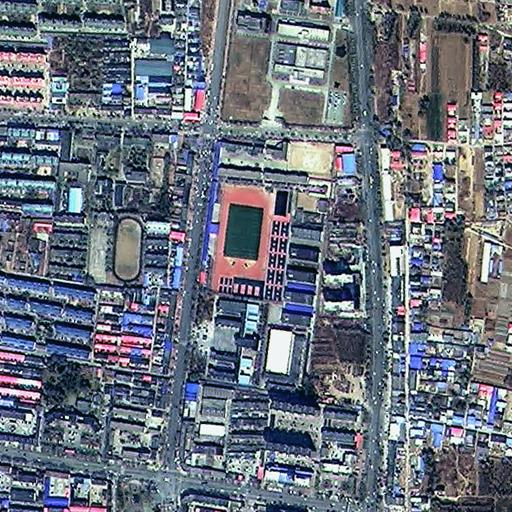school: (192, 177, 329, 388), (218, 133, 335, 181)
